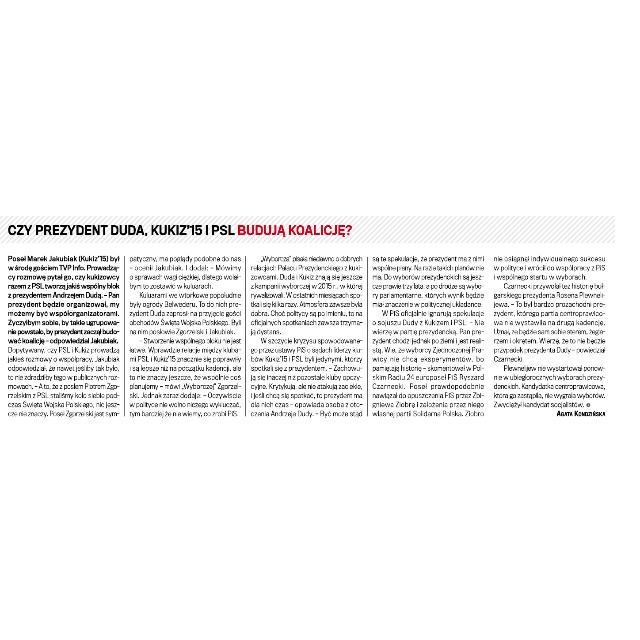author: (552, 407, 610, 419)
body: (370, 248, 488, 420), (126, 250, 244, 420), (248, 249, 366, 419), (492, 249, 610, 409), (5, 344, 121, 420)
lead: (5, 250, 123, 346)
title: (6, 218, 360, 240)
